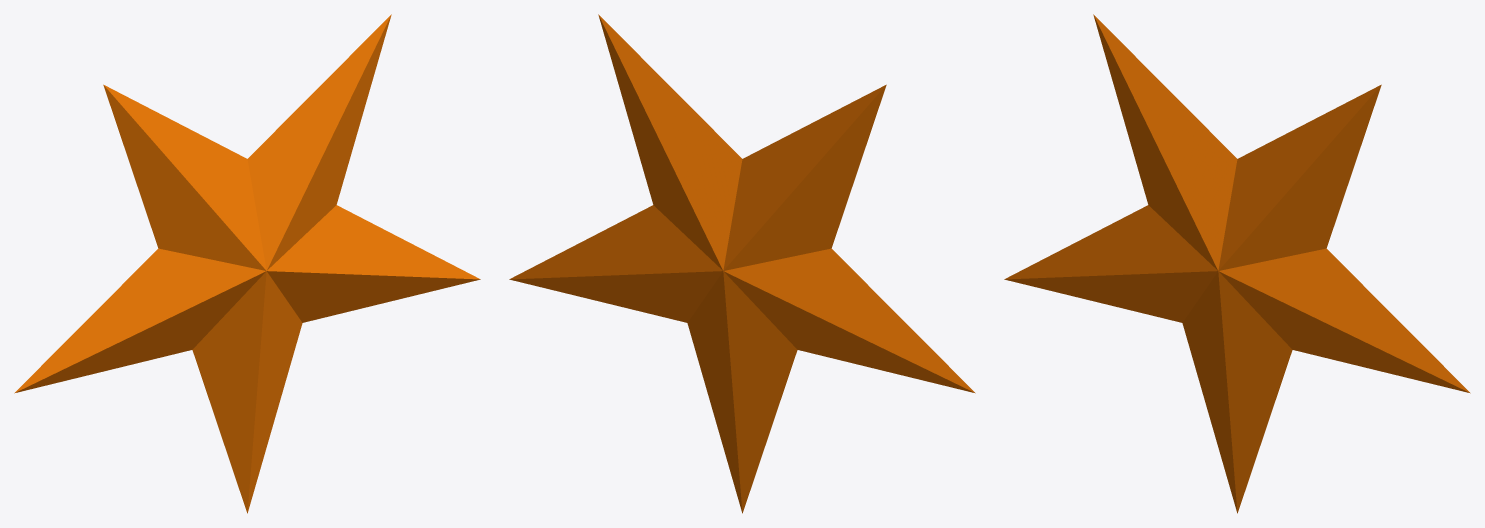
Rendered from star_edited_blender.obj.
3 views of the same model, side by side, from view 1: azimuth 30°, elevation 25°; view 2: azimuth 150°, elevation 25°; view 3: azimuth 330°, elevation 25° (orthographic).
Visible parts, largest first — view 1: star_edited; view 2: star_edited; view 3: star_edited.
Part boxes in pixels (x1=…): star_edited: x1=14, y1=14, x2=480, y2=513; star_edited: x1=509, y1=14, x2=975, y2=513; star_edited: x1=1004, y1=14, x2=1470, y2=513.
Size of the model in its own units: 1.19 by 1.13 by 0.1688.
